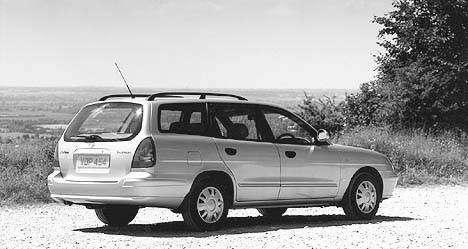car: (47, 63, 400, 230)
